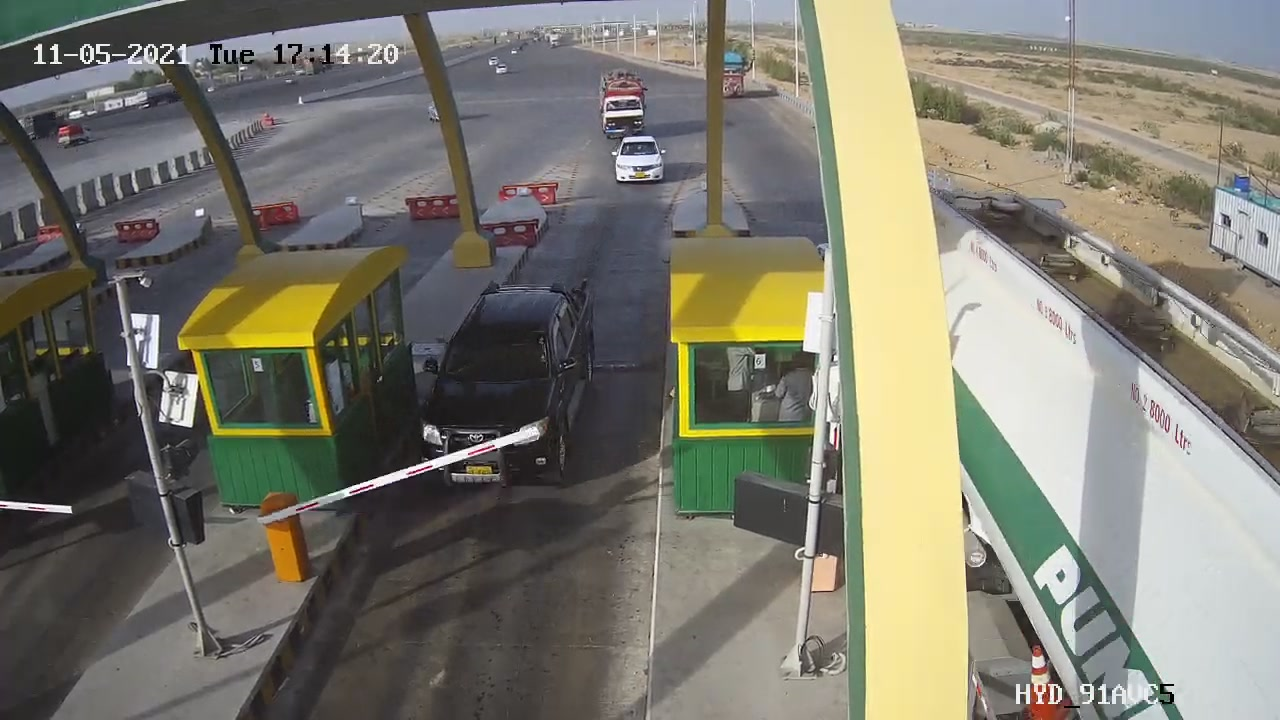F1: (399, 262, 618, 505)
